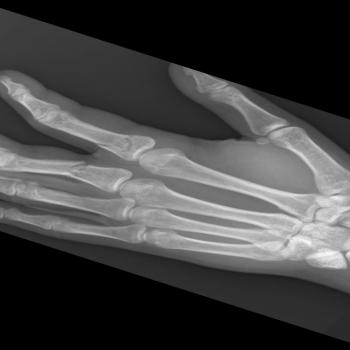Fracture: (102, 128, 144, 155), (61, 154, 95, 177)
